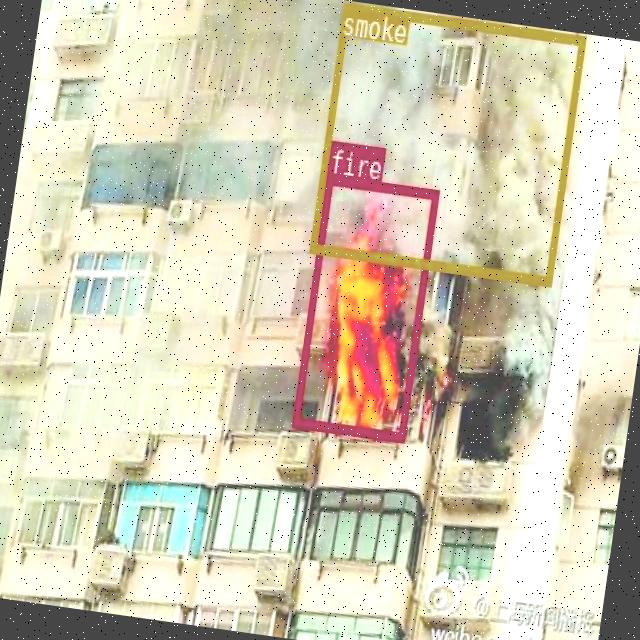fire: (291, 172, 438, 440)
smoke: (310, 2, 586, 284)
